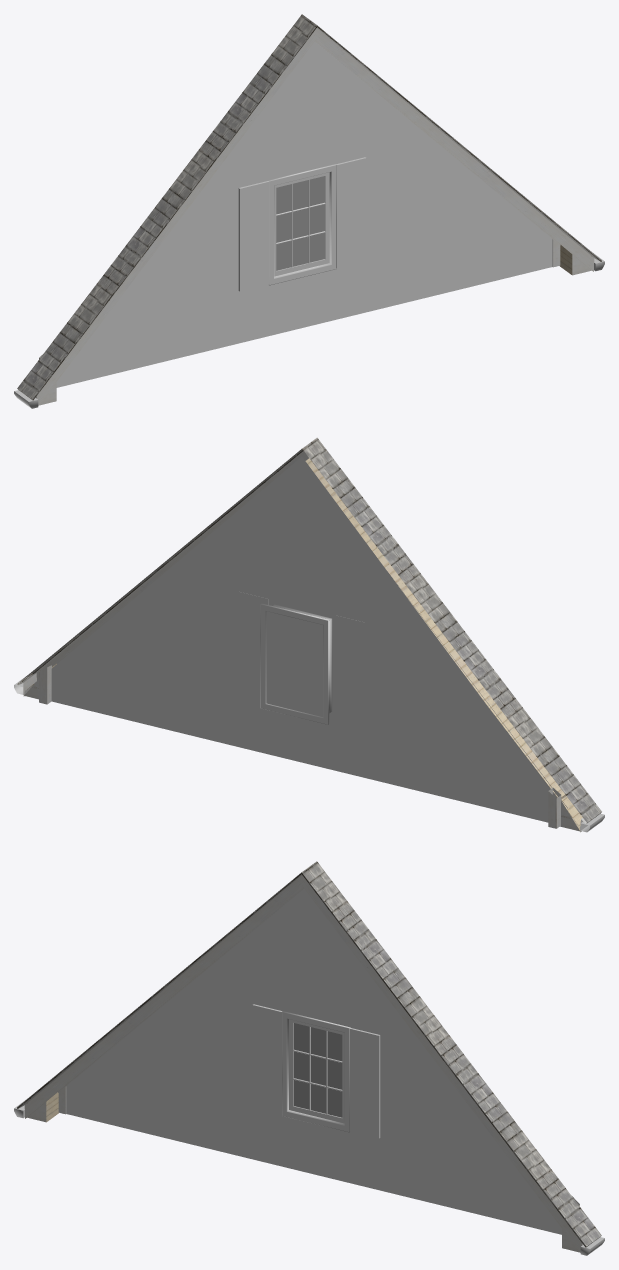
File: Roof_End_Window_A_8x.FBX
3 views of the same model, one above another, from view 1: azimuth 30°, elevation 25°; view 2: azimuth 150°, elevation 25°; view 3: azimuth 330°, elevation 25° (orthographic).
Parts seen in each view (by area): view 1: Roof_End_Window_A_8x; view 2: Roof_End_Window_A_8x; view 3: Roof_End_Window_A_8x.
Boxes of the visible parts, x1,y1,x2,y2 form: Roof_End_Window_A_8x: [14, 14, 604, 408]; Roof_End_Window_A_8x: [14, 437, 604, 832]; Roof_End_Window_A_8x: [14, 861, 604, 1255].
Bounding box in the file's own units: 894 × 468 × 61.41.
